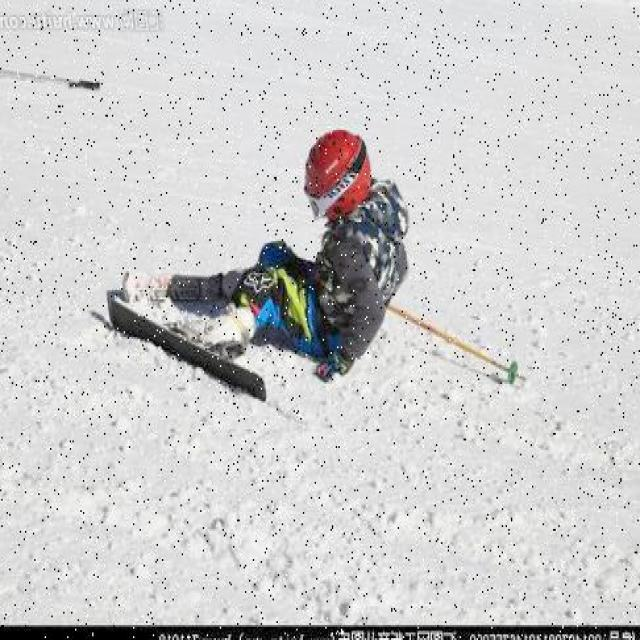fall: (146, 122, 412, 338)
